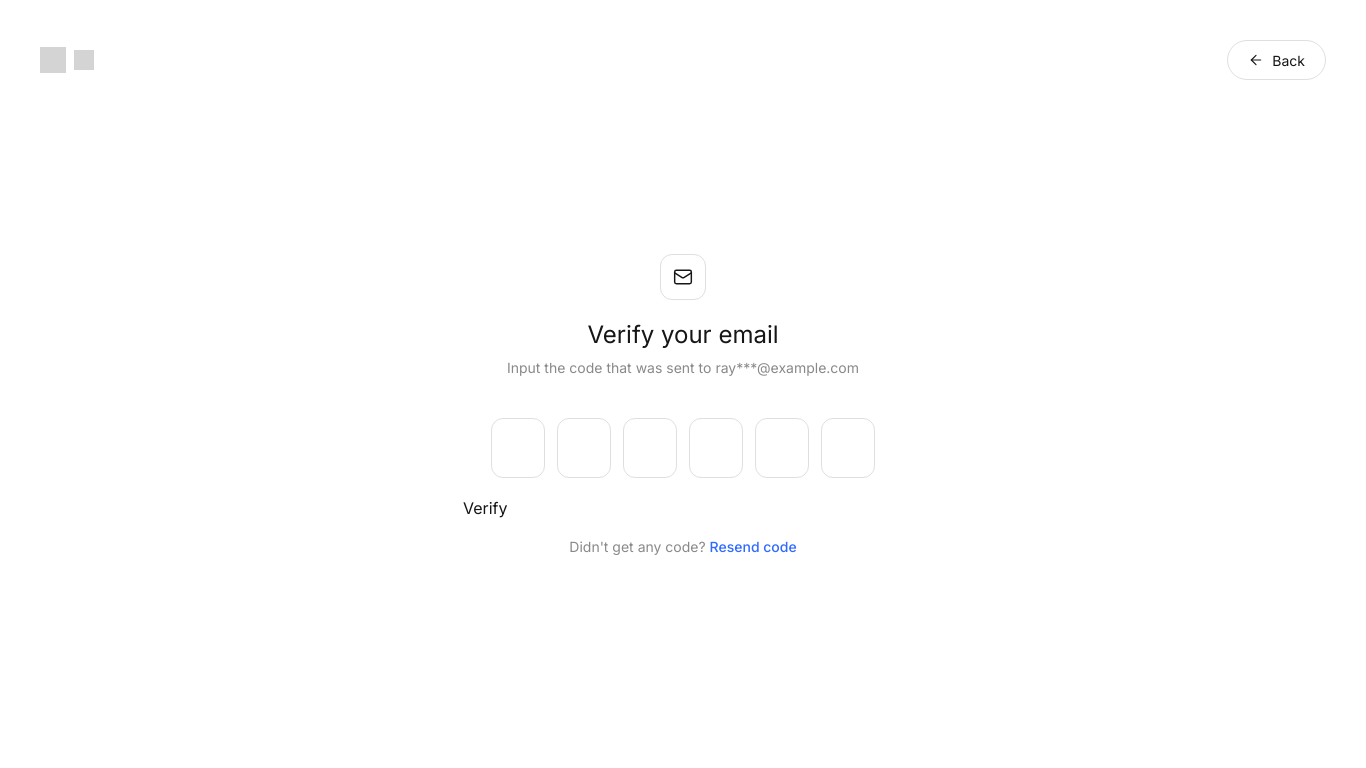
Scenario: VerifyEmail › passes the backend's cooldown message through
Click the button "Resend code": (753, 546) [710,538,797,554]
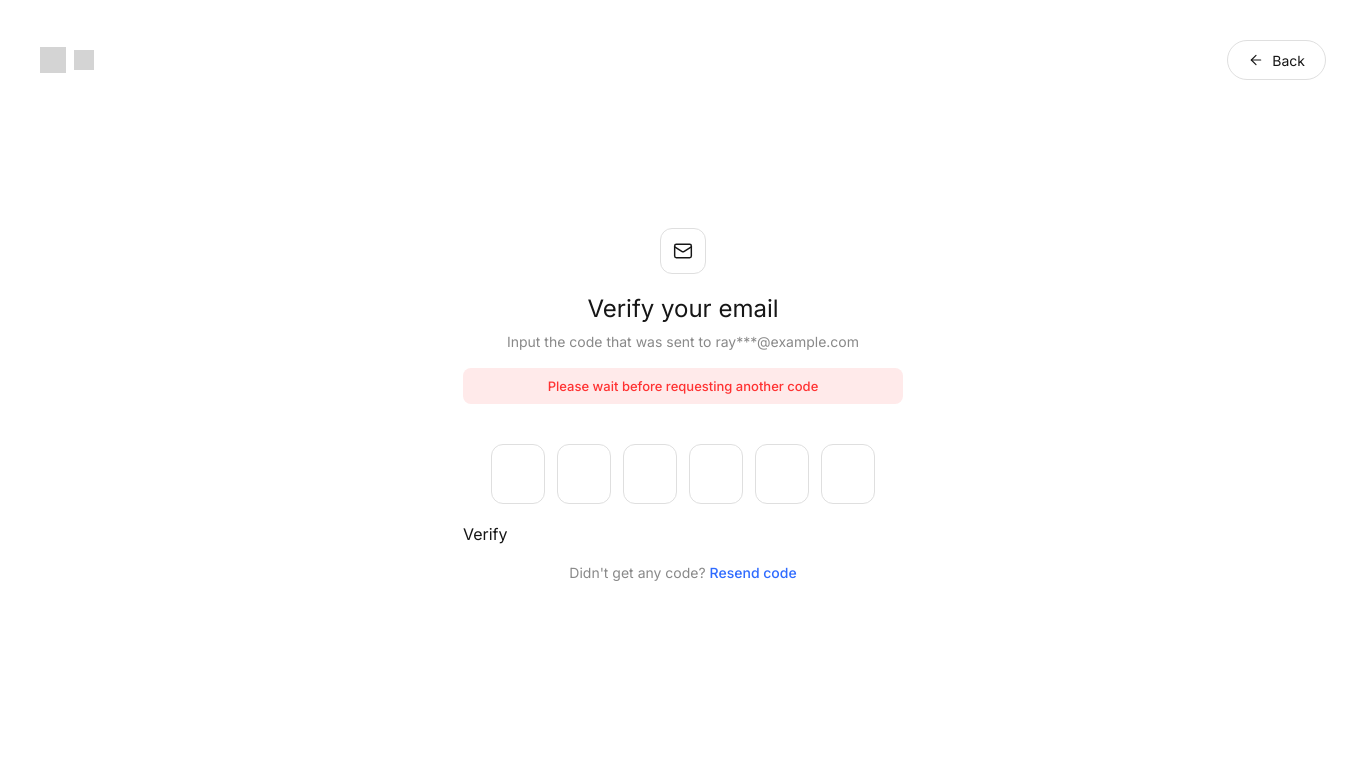
Now the text "Please wait before requesting another code" is shown, box [463,368,903,404]
